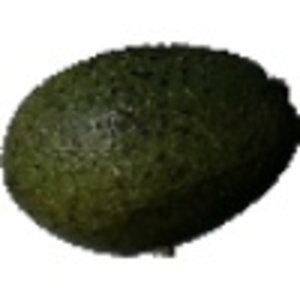abacate: (1, 41, 299, 255)
